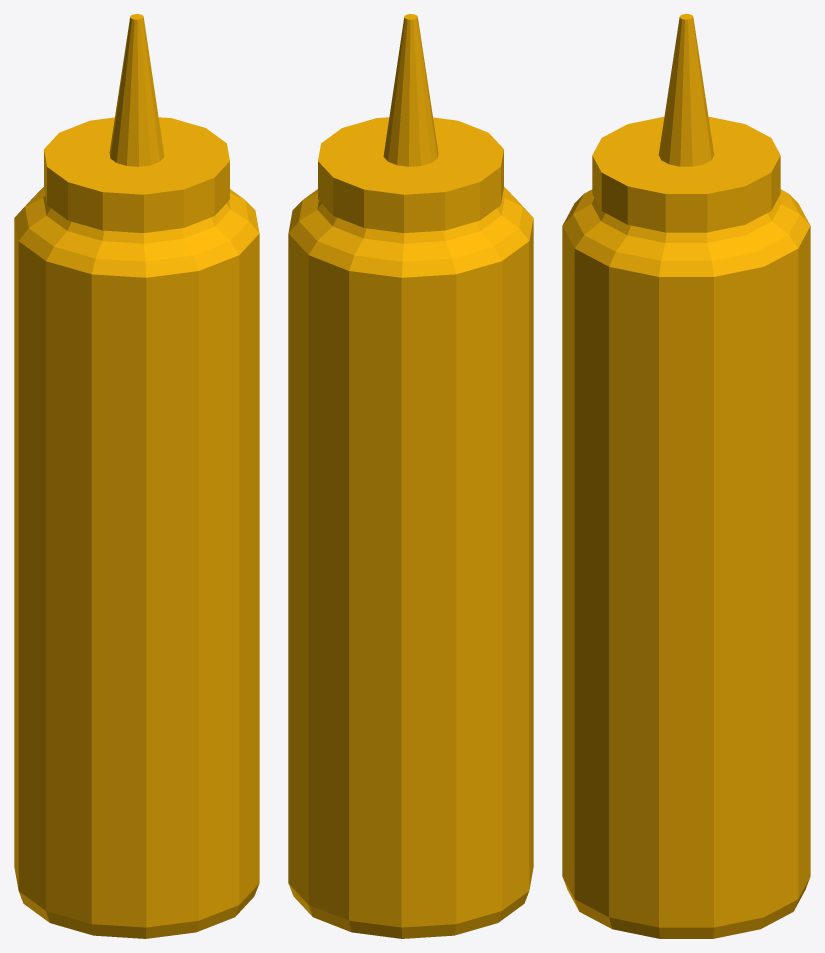
The model's file is Mustard_01.fbx.
The picture shows the model from 3 angles, left to right: view 1: azimuth 30°, elevation 25°; view 2: azimuth 150°, elevation 25°; view 3: azimuth 270°, elevation 25°; orthographic projection.
Visible parts, largest first — view 1: Mustard_01; view 2: Mustard_01; view 3: Mustard_01.
Boxes of the visible parts, bbox=[...] form: Mustard_01: bbox=[14, 14, 259, 938]; Mustard_01: bbox=[288, 14, 533, 938]; Mustard_01: bbox=[562, 14, 810, 938].
Bounding box in the file's own units: 9.39 × 37.37 × 9.63.
